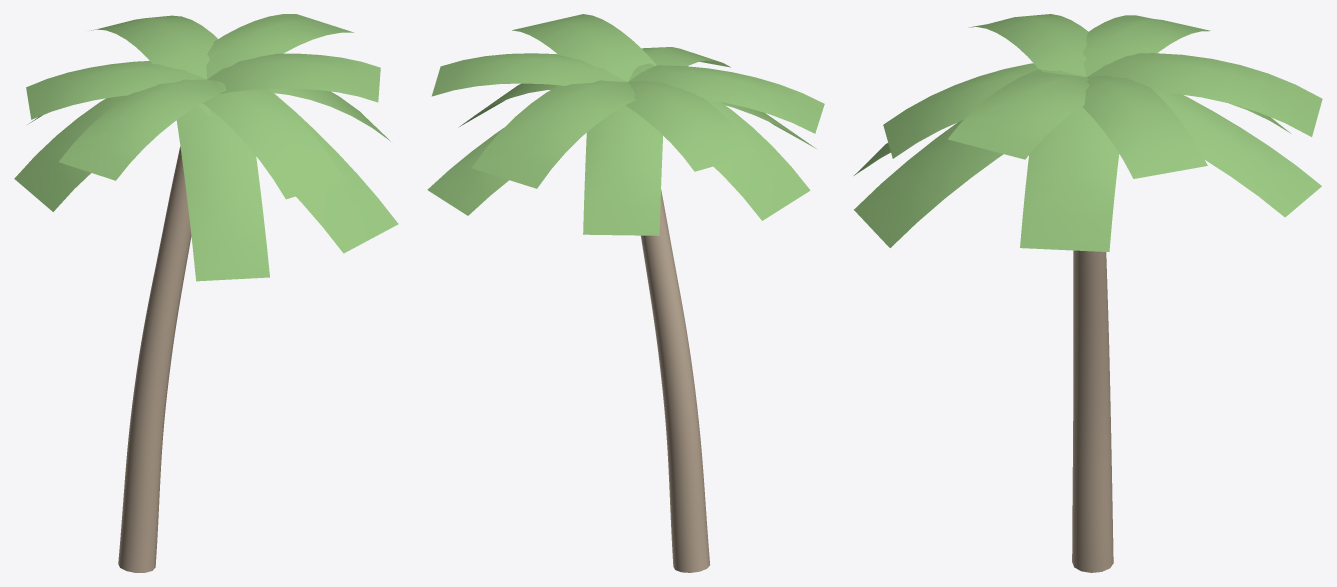
File: palm_soft_b.glb
3 renders of one model, left to right at view 1: azimuth 30°, elevation 25°; view 2: azimuth 150°, elevation 25°; view 3: azimuth 270°, elevation 25°, orthographic. The views are drawn at different scales.
Parts seen in each view (by area): view 1: palm_soft_b, trunk; view 2: palm_soft_b, trunk; view 3: palm_soft_b, trunk.
Part boxes in pixels (<box>): palm_soft_b: <box>14,14,398,281</box>; trunk: <box>118,147,191,572</box>; palm_soft_b: <box>427,14,824,235</box>; trunk: <box>641,189,709,572</box>; palm_soft_b: <box>854,14,1322,251</box>; trunk: <box>1072,250,1113,572</box>.
Size of the model in its own units: 5.4 by 7.5 by 5.87.
